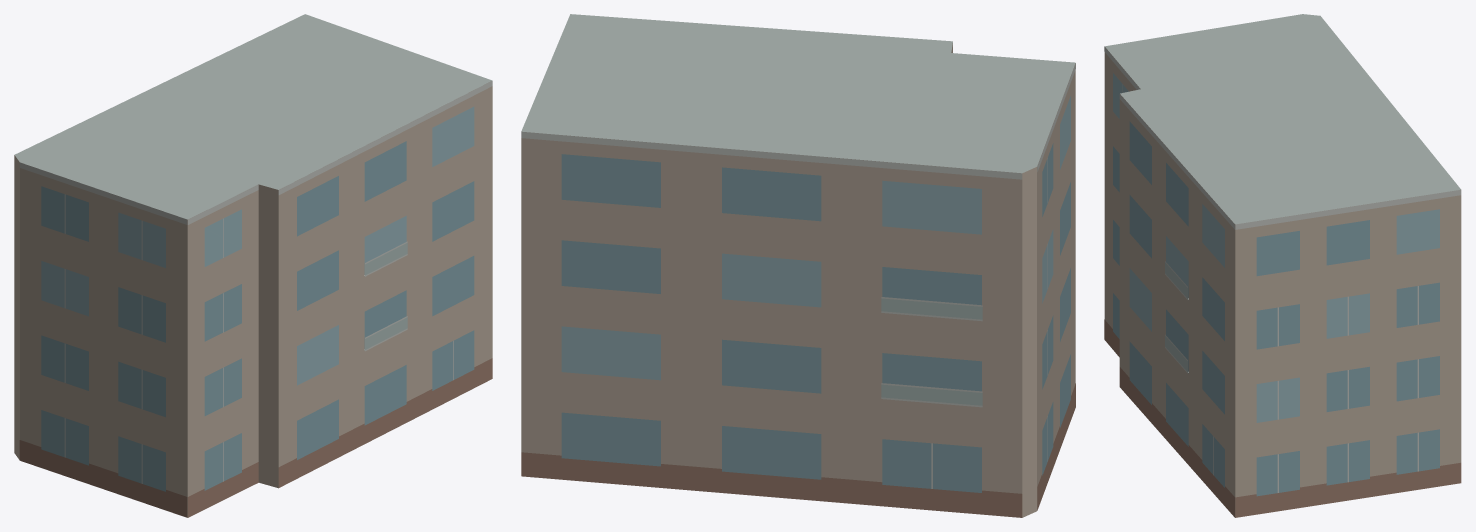
File: survey-upis-32863217.glb
The picture shows the model from 3 angles, left to right: view 1: azimuth 30°, elevation 25°; view 2: azimuth 150°, elevation 25°; view 3: azimuth 270°, elevation 25°; orthographic projection. The views are drawn at different scales.
Visible parts, largest first — view 1: survey-upis-32863217.tmp; view 2: survey-upis-32863217.tmp; view 3: survey-upis-32863217.tmp.
Boxes of the visible parts, x1,y1,x2,y2 form: survey-upis-32863217.tmp: (14, 14, 492, 517); survey-upis-32863217.tmp: (521, 14, 1075, 517); survey-upis-32863217.tmp: (1104, 14, 1461, 517).
Size of the model in its own units: 20.16 by 13.1 by 14.45.
